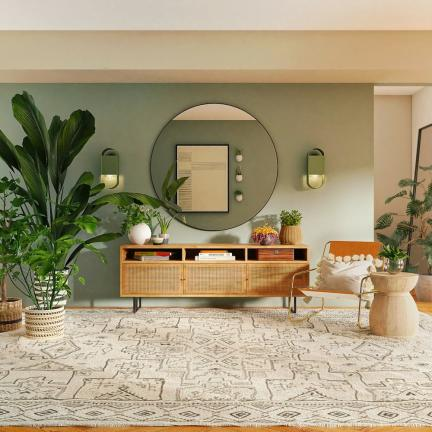air conditioner: (135, 251, 172, 256), (196, 256, 235, 260), (133, 256, 169, 260), (199, 253, 232, 257), (200, 250, 228, 253)
book: (120, 243, 309, 312), (292, 273, 309, 298), (292, 300, 296, 309)
cabinet: (0, 308, 432, 426), (363, 317, 365, 321)
carpet: (289, 242, 381, 329), (378, 259, 382, 269)
door: (0, 308, 432, 427)
floor: (151, 104, 278, 231), (408, 124, 432, 275), (177, 145, 228, 212), (180, 216, 181, 222)
person: (0, 92, 104, 250), (0, 177, 77, 309), (375, 165, 432, 275), (114, 204, 176, 234), (161, 161, 188, 203), (84, 233, 119, 262), (54, 240, 82, 270), (378, 246, 408, 274), (279, 210, 302, 245), (251, 223, 278, 245), (74, 221, 91, 231), (235, 146, 244, 162), (105, 194, 116, 203), (234, 190, 242, 201), (72, 264, 78, 275), (48, 295, 54, 305), (236, 165, 242, 175), (78, 277, 84, 284), (48, 269, 53, 276), (28, 273, 32, 281), (90, 216, 95, 222), (148, 204, 156, 207), (24, 283, 27, 288), (2, 292, 5, 297), (176, 209, 181, 212), (92, 226, 95, 230), (2, 286, 4, 291), (147, 197, 149, 202), (157, 204, 161, 206), (139, 198, 143, 200), (50, 251, 53, 253), (409, 254, 411, 257), (2, 282, 4, 284), (183, 217, 184, 221), (50, 280, 51, 283), (137, 243, 140, 244), (16, 183, 17, 185), (153, 199, 155, 200)
plant: (24, 305, 65, 339), (0, 298, 22, 332), (128, 222, 151, 244), (415, 274, 432, 302), (279, 226, 302, 245), (159, 233, 169, 244)
vegetables: (0, 83, 374, 265), (70, 235, 131, 307), (170, 220, 255, 243), (143, 298, 229, 307), (237, 144, 253, 184), (97, 206, 120, 232), (232, 298, 283, 307), (235, 186, 248, 207), (8, 285, 22, 297), (0, 162, 10, 176), (163, 162, 168, 172), (185, 214, 191, 222), (258, 150, 263, 159), (265, 168, 270, 174), (251, 168, 256, 174), (332, 302, 337, 305), (156, 185, 159, 190), (346, 302, 352, 304), (26, 299, 28, 305), (339, 302, 341, 304), (327, 302, 329, 304), (120, 216, 121, 220), (233, 180, 235, 182), (162, 173, 164, 175), (299, 301, 300, 304), (254, 219, 255, 222), (231, 144, 234, 145), (260, 164, 262, 165), (302, 302, 302, 304), (24, 299, 25, 299)
